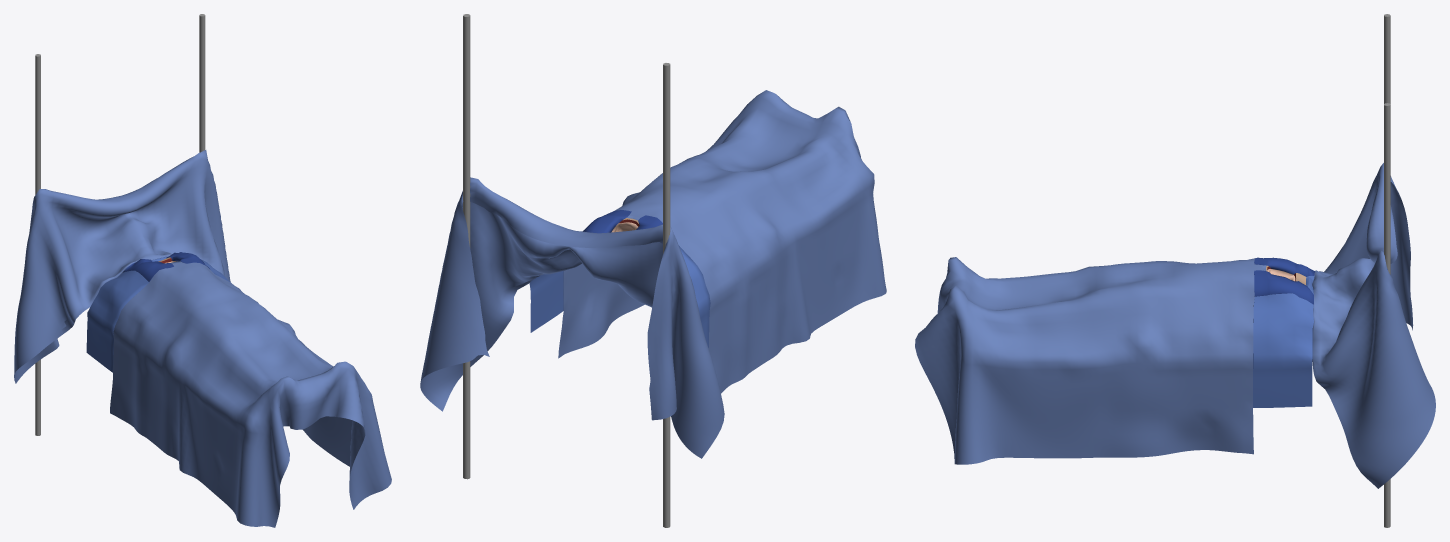
File: Chest_Drapes.FBX
3 views of the same model, side by side, from view 1: azimuth 30°, elevation 25°; view 2: azimuth 150°, elevation 25°; view 3: azimuth 270°, elevation 25° (orthographic). The views are drawn at different scales.
Parts seen in each view (by area): view 1: Chest_Drape, R_Drape_pole, L_Drape_pole; view 2: Chest_Drape, L_Drape_pole, R_Drape_pole; view 3: Chest_Drape, L_Drape_pole, R_Drape_pole.
Boxes of the visible parts, x1,y1,x2,y2 form: Chest_Drape: (14, 150, 391, 527); R_Drape_pole: (35, 54, 40, 435); L_Drape_pole: (199, 14, 205, 152); Chest_Drape: (420, 90, 886, 458); L_Drape_pole: (463, 14, 470, 479); R_Drape_pole: (663, 63, 670, 527); Chest_Drape: (915, 163, 1435, 488); L_Drape_pole: (1384, 103, 1390, 527); R_Drape_pole: (1384, 14, 1390, 103).
Bounding box in the file's own units: 3.14 × 5 × 5.59.
